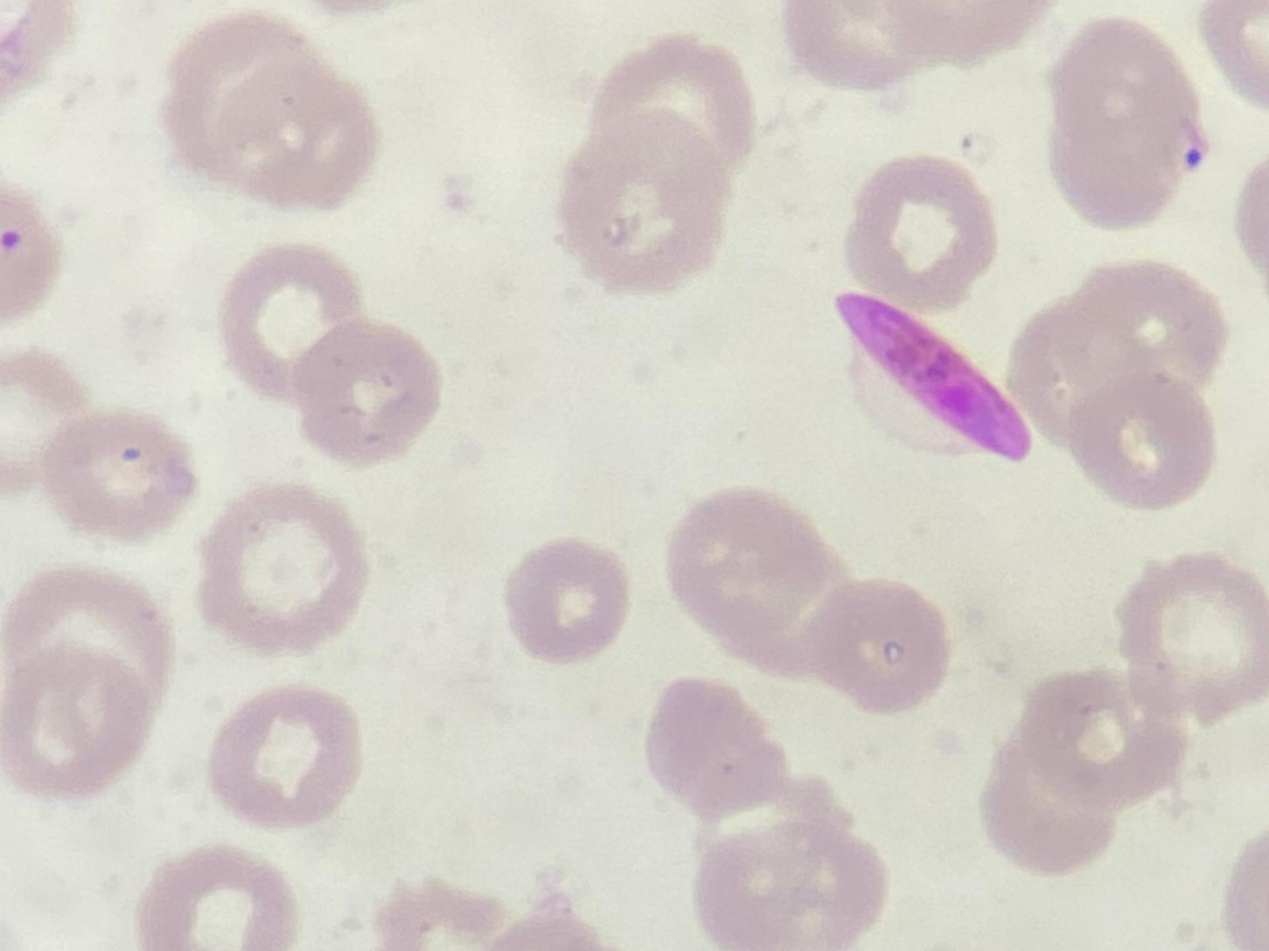Infected: (834, 289, 1037, 464)
Uninfected: (170, 21, 377, 213), (1046, 17, 1207, 231), (557, 113, 732, 291), (200, 483, 370, 652), (0, 567, 171, 732), (588, 32, 757, 189), (1119, 554, 1269, 722), (666, 488, 829, 641), (0, 646, 155, 797), (849, 156, 997, 311), (296, 316, 442, 472), (221, 248, 368, 398), (1023, 671, 1178, 813), (212, 686, 360, 830), (1082, 261, 1225, 407), (811, 579, 954, 715), (50, 408, 194, 543), (1082, 374, 1217, 510), (507, 539, 634, 668)
